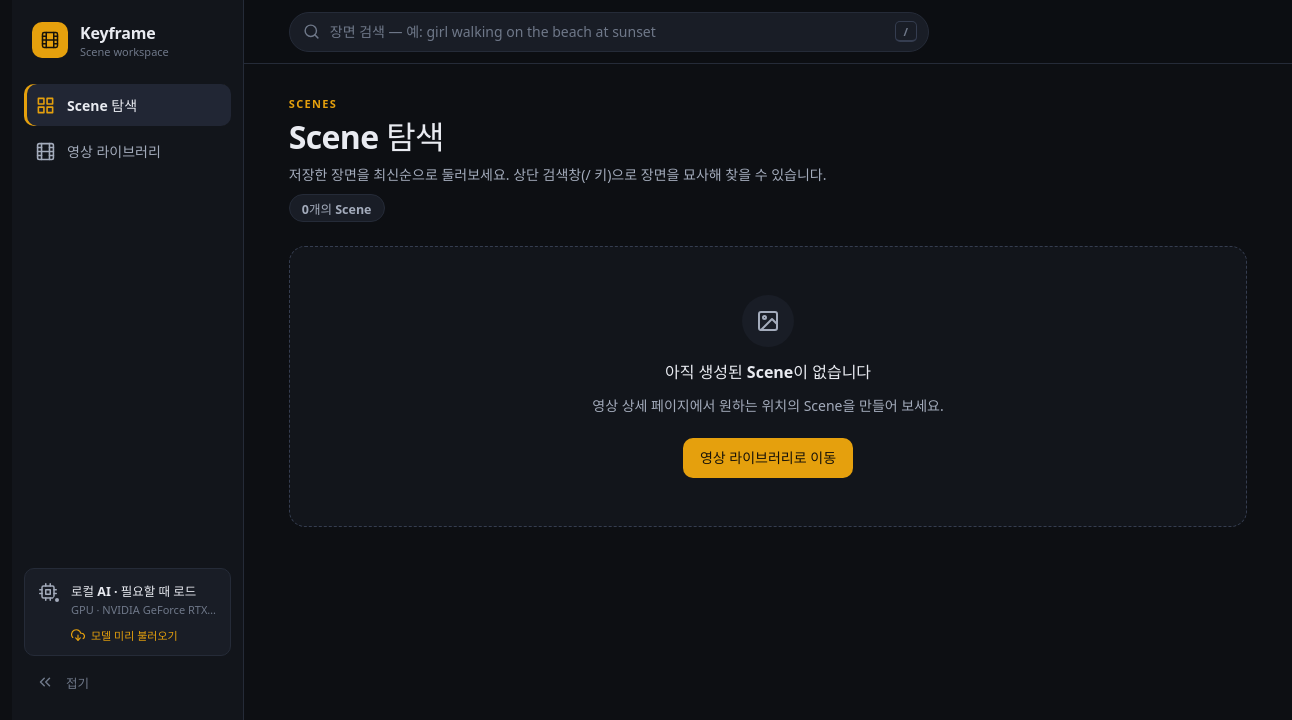
Test: Scene 탐색 › runs a new search from the global search bar and clears it
Expected: the heading "아직 생성된 Scene이 없습니다" is shown, [665, 359, 871, 383]
Type "  rainy street  " into the search field named "Scene 검색" at (609, 32), box [289, 12, 929, 52]
Then press Enter
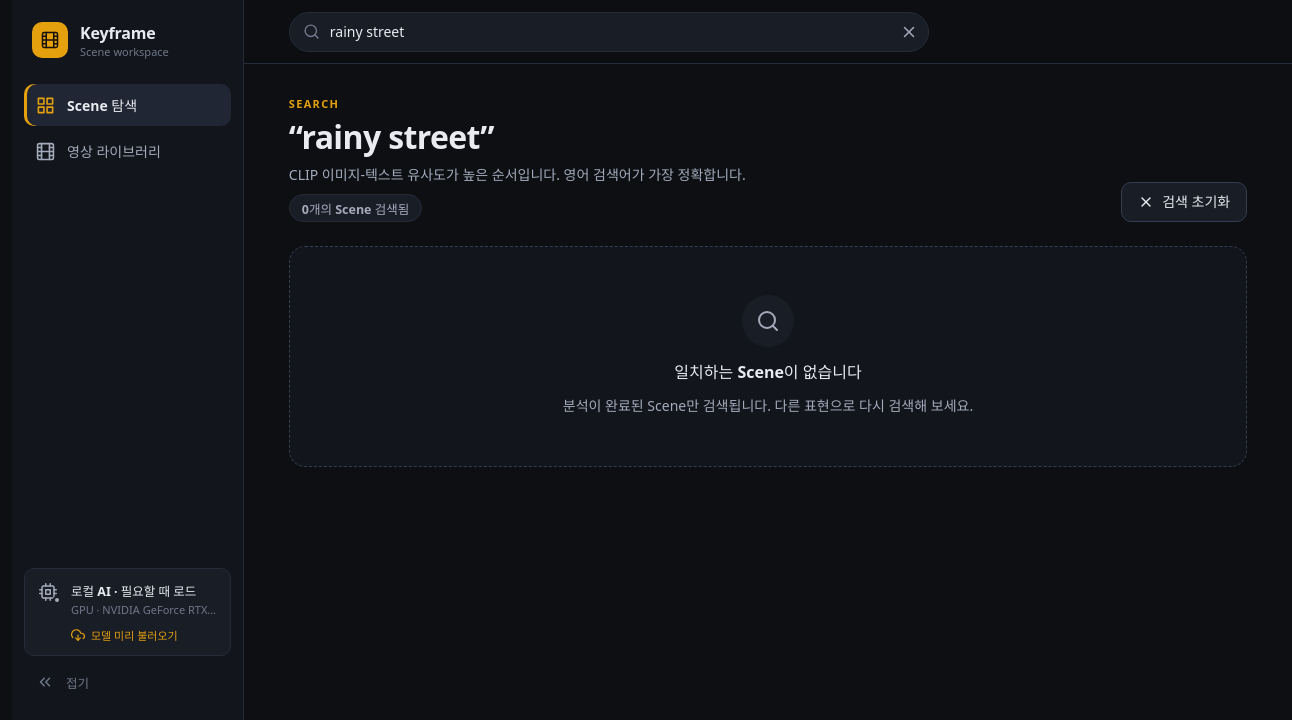
Expected: the heading "일치하는 Scene이 없습니다" is shown, [674, 359, 862, 383]
Click the link "검색 초기화" at (1184, 202), box [1121, 182, 1247, 222]
(page scrolled)
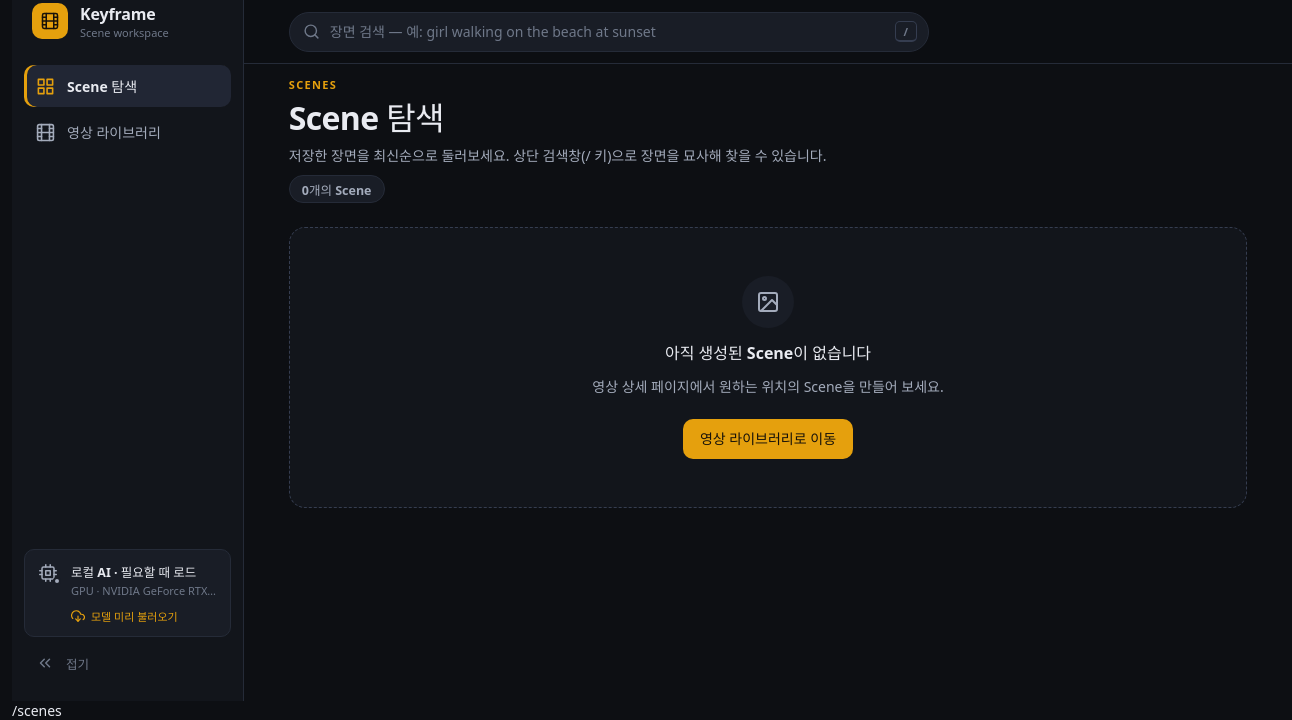
Expected: the heading "아직 생성된 Scene이 없습니다" is shown, [665, 340, 871, 364]
Expected: the text with test id "location" reads "/scenes", [12, 701, 62, 719]
